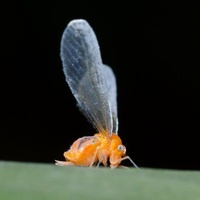insect: (56, 19, 136, 167)
